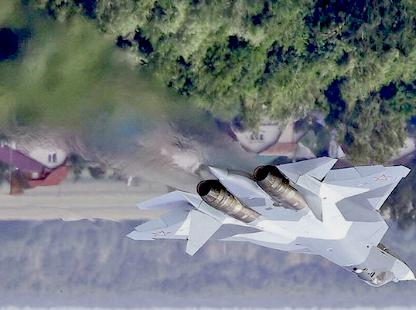SR71: (126, 156, 414, 288)
